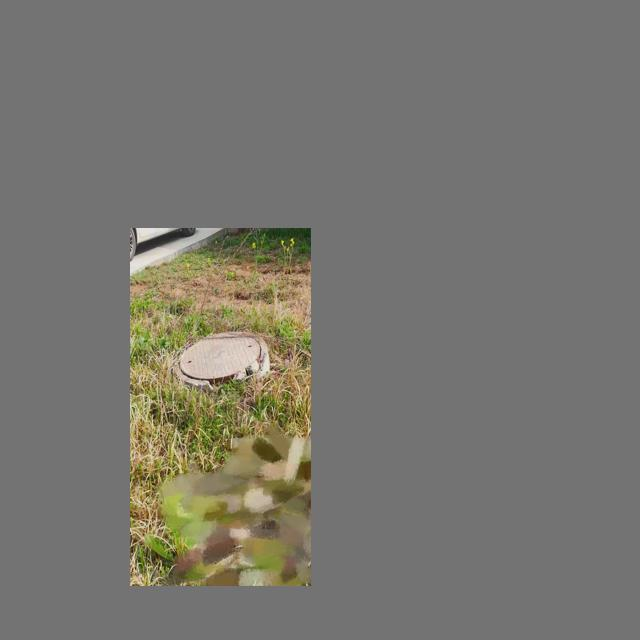circle: (168, 327, 269, 392)
